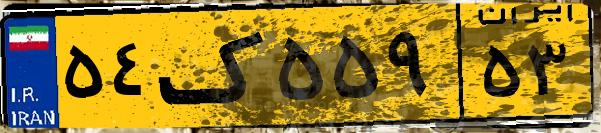3: (525, 38, 570, 115)
4: (110, 28, 158, 98)
5: (270, 28, 330, 110), (330, 28, 385, 110), (57, 26, 110, 100), (475, 38, 525, 113)
9: (385, 28, 445, 110)
ک: (158, 12, 270, 120)
